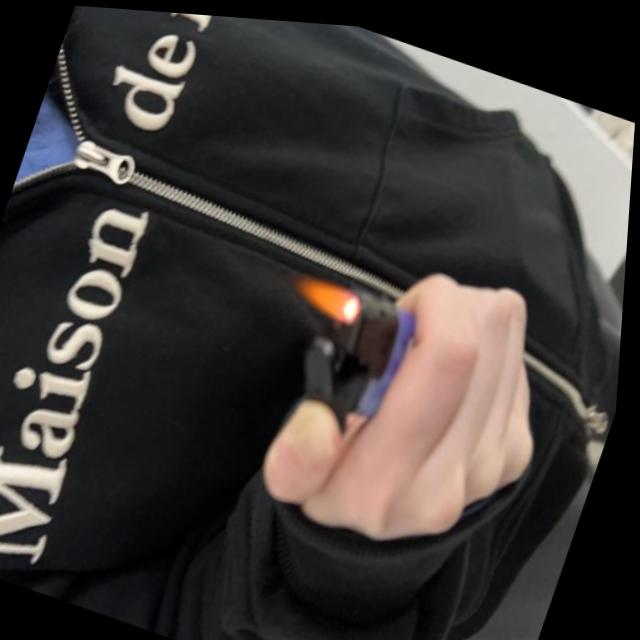Fire: (289, 264, 371, 321)
